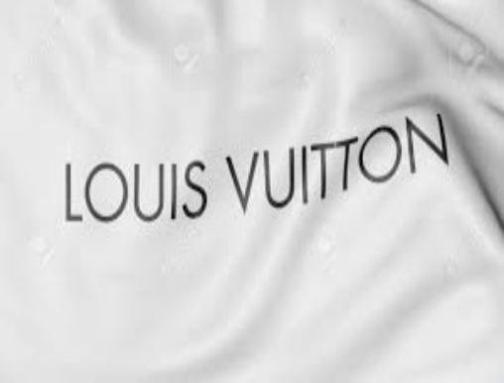LOUIS-VUITTON: (42, 104, 474, 243)
